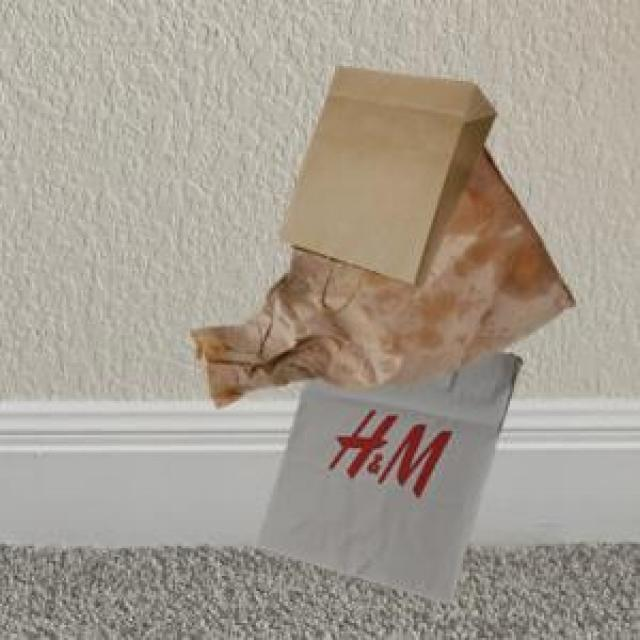Paper -Biodegradable-: (199, 67, 573, 604)
